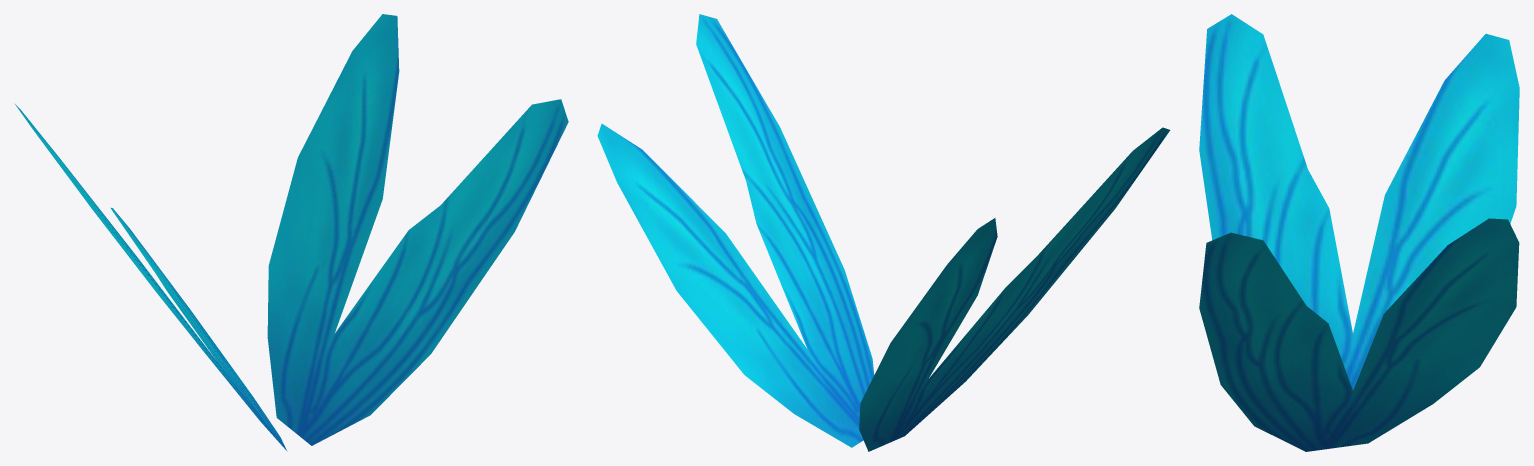
Rendered from tt_m_chr_avt_acc_pac_dragonFlyWings.glb.
3 views of the same model, side by side, from view 1: azimuth 30°, elevation 25°; view 2: azimuth 150°, elevation 25°; view 3: azimuth 270°, elevation 25° (orthographic). The views are drawn at different scales.
Visible parts, largest first — view 1: dragonFlyWings; view 2: dragonFlyWings; view 3: dragonFlyWings.
Boxes of the visible parts, x1,y1,x2,y2 form: dragonFlyWings: (14,14,568,451); dragonFlyWings: (597,14,1170,451); dragonFlyWings: (1199,14,1519,451).
Bounding box in the file's own units: 5.59 × 3.85 × 3.46.
Materials: 1 (1 with a texture image).
